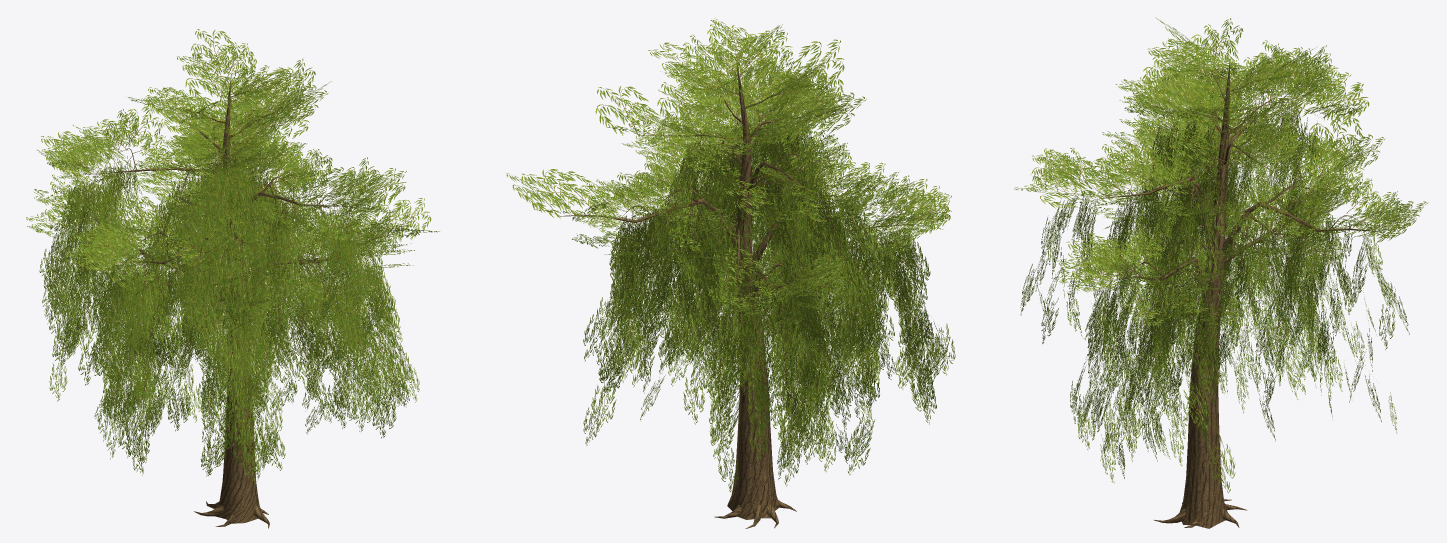
The model's file is corealm_willow_2.glb.
The picture shows the model from 3 angles, left to right: view 1: azimuth 30°, elevation 25°; view 2: azimuth 150°, elevation 25°; view 3: azimuth 270°, elevation 25°; orthographic projection. The views are drawn at different scales.
Visible parts, largest first — view 1: corealm_willow_2; view 2: corealm_willow_2; view 3: corealm_willow_2.
Boxes of the visible parts, x1=… form: corealm_willow_2: x1=26, y1=29, x2=439, y2=528; corealm_willow_2: x1=506, y1=18, x2=955, y2=528; corealm_willow_2: x1=1014, y1=17, x2=1428, y2=528.
Bounding box in the file's own units: 6.22 × 7.65 × 6.16.
2 materials, 2 textured.
